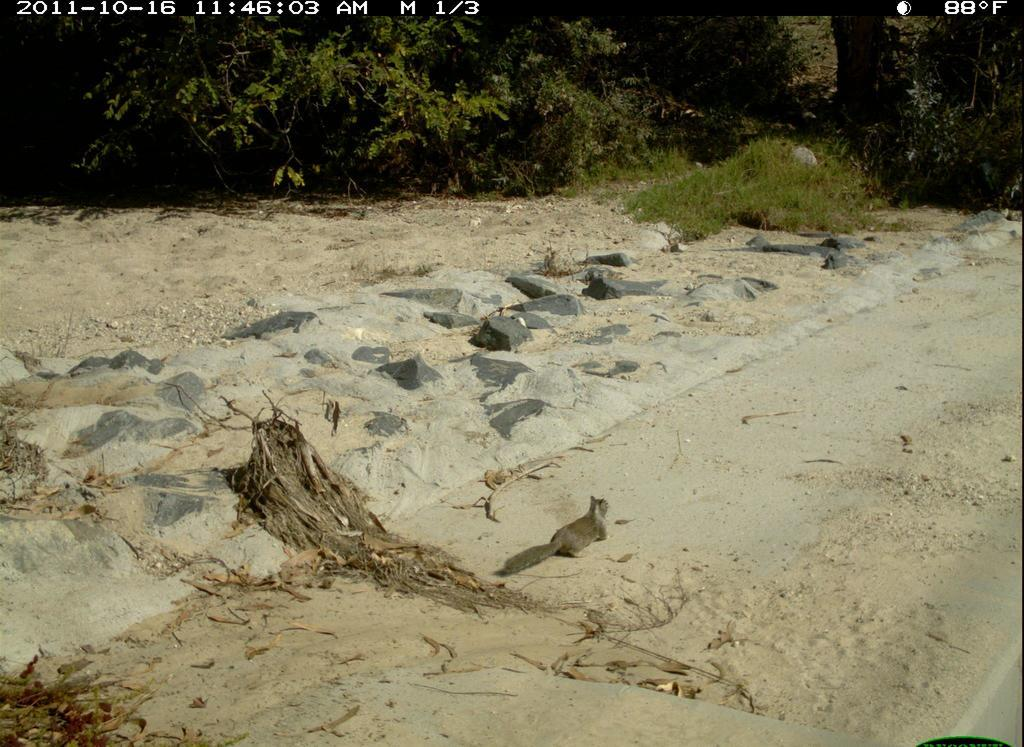squirrel: (495, 488, 624, 580)
